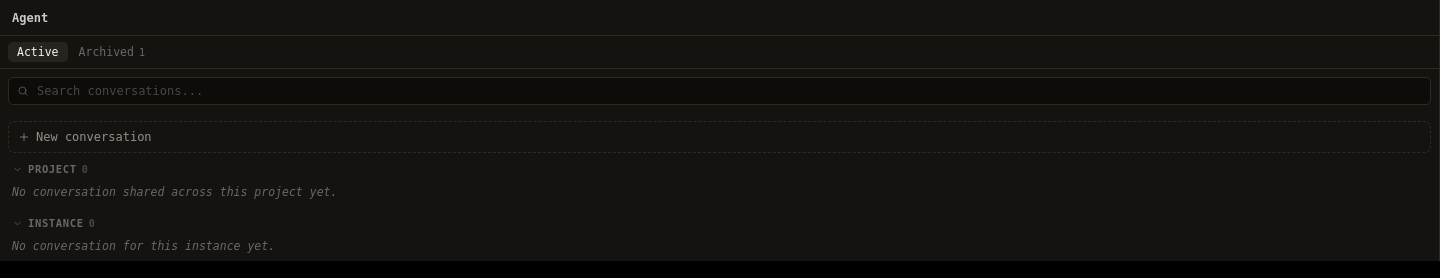
Test: ConversationHistoryPanel › row actions › offers to undo pinning and archiving once they are on
Click the button "Archived 1" at (112, 52), box [70, 42, 154, 62]
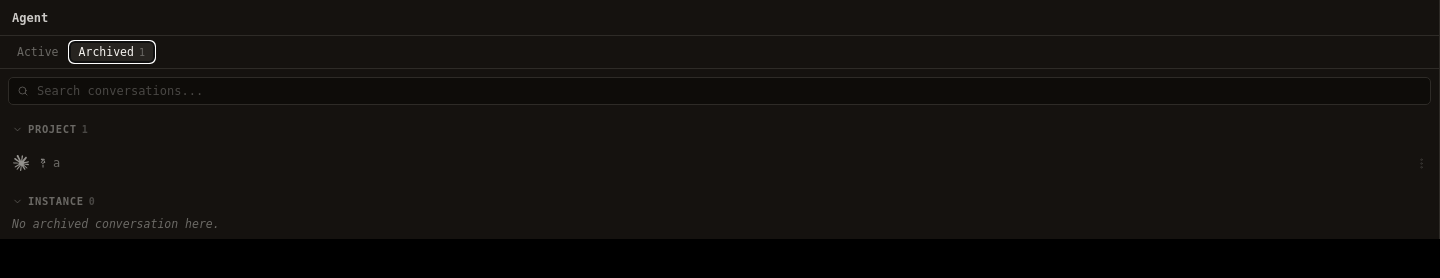
Click the button titled "actions" at (1421, 163), box [1407, 149, 1435, 177]
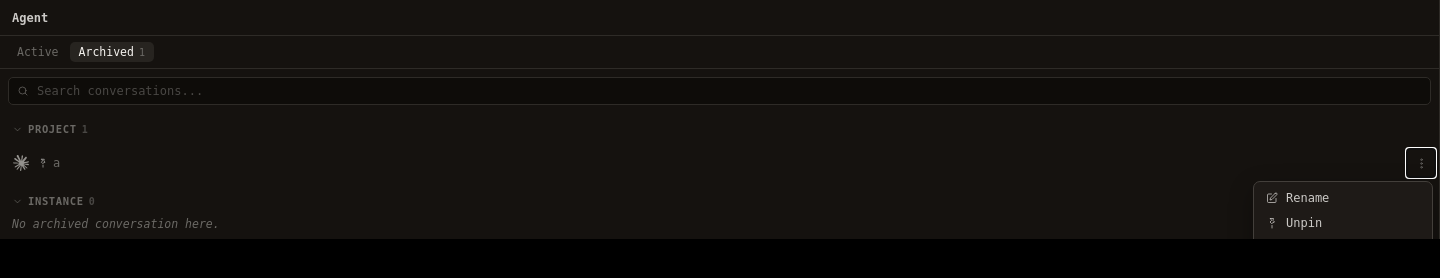
Check: the button "Unpin" is shown, box [1258, 211, 1428, 235]
